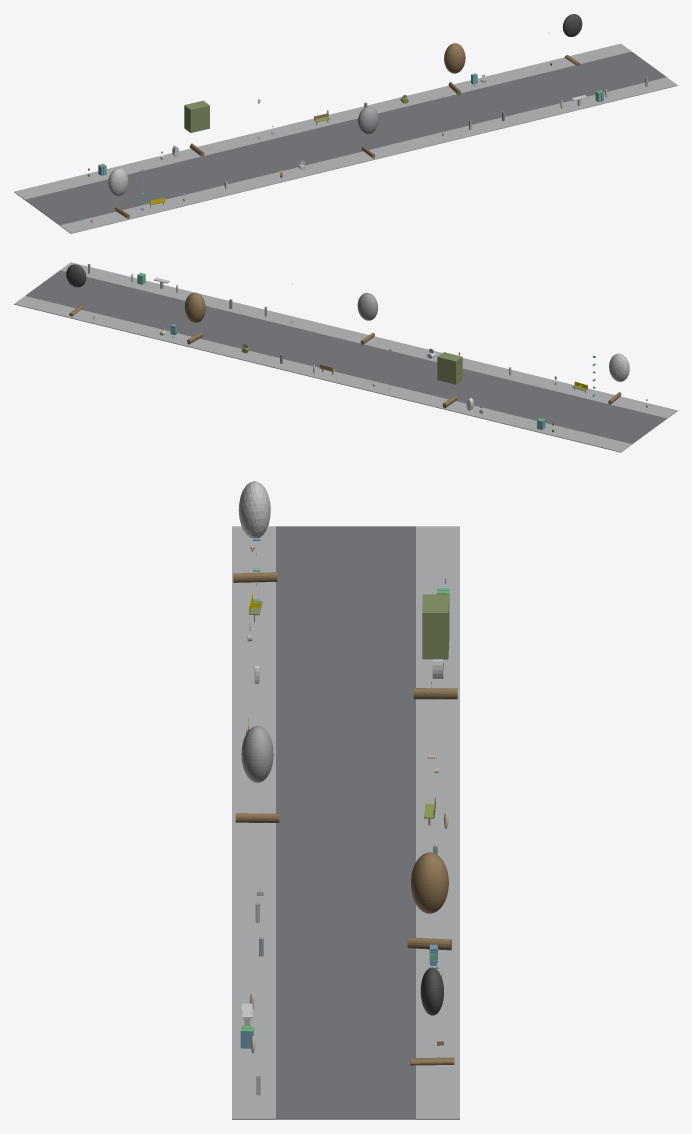
The picture shows the model from 3 angles, top to bottom: view 1: azimuth 30°, elevation 25°; view 2: azimuth 150°, elevation 25°; view 3: azimuth 270°, elevation 25°; orthographic projection. The views are drawn at different scales.
Parts seen in each view (by area): view 1: road_slab, sidewalk_left, sidewalk_right, inst_0013, inst_0015, inst_0012, inst_0014, inst_0016; view 2: road_slab, sidewalk_right, sidewalk_left, inst_0013, inst_0015, inst_0012, inst_0014, inst_0016; view 3: road_slab, sidewalk_left, sidewalk_right, inst_0013, inst_0015, inst_0012, inst_0014, inst_0016.
Boxes of the visible parts, x1,y1,x2,y2 form: road_slab: [25, 51, 666, 225]; sidewalk_left: [60, 77, 677, 233]; sidewalk_right: [14, 43, 631, 199]; inst_0013: [184, 100, 209, 156]; inst_0015: [444, 43, 465, 95]; inst_0012: [108, 168, 129, 218]; inst_0014: [358, 106, 378, 158]; inst_0016: [562, 14, 582, 65]; road_slab: [25, 270, 666, 444]; sidewalk_right: [14, 296, 631, 452]; sidewalk_left: [60, 262, 677, 418]; inst_0013: [437, 352, 462, 408]; inst_0015: [184, 292, 205, 344]; inst_0012: [608, 353, 629, 404]; inst_0014: [357, 292, 377, 344]; inst_0016: [66, 264, 86, 316]; road_slab: [276, 526, 415, 1119]; sidewalk_left: [232, 526, 275, 1119]; sidewalk_right: [416, 526, 459, 1119]; inst_0013: [413, 594, 457, 699]; inst_0015: [407, 852, 451, 950]; inst_0012: [233, 481, 277, 582]; inst_0014: [235, 726, 279, 822]; inst_0016: [410, 967, 454, 1065].
Bounding box in the file's own units: 80 × 6.08 × 13.
